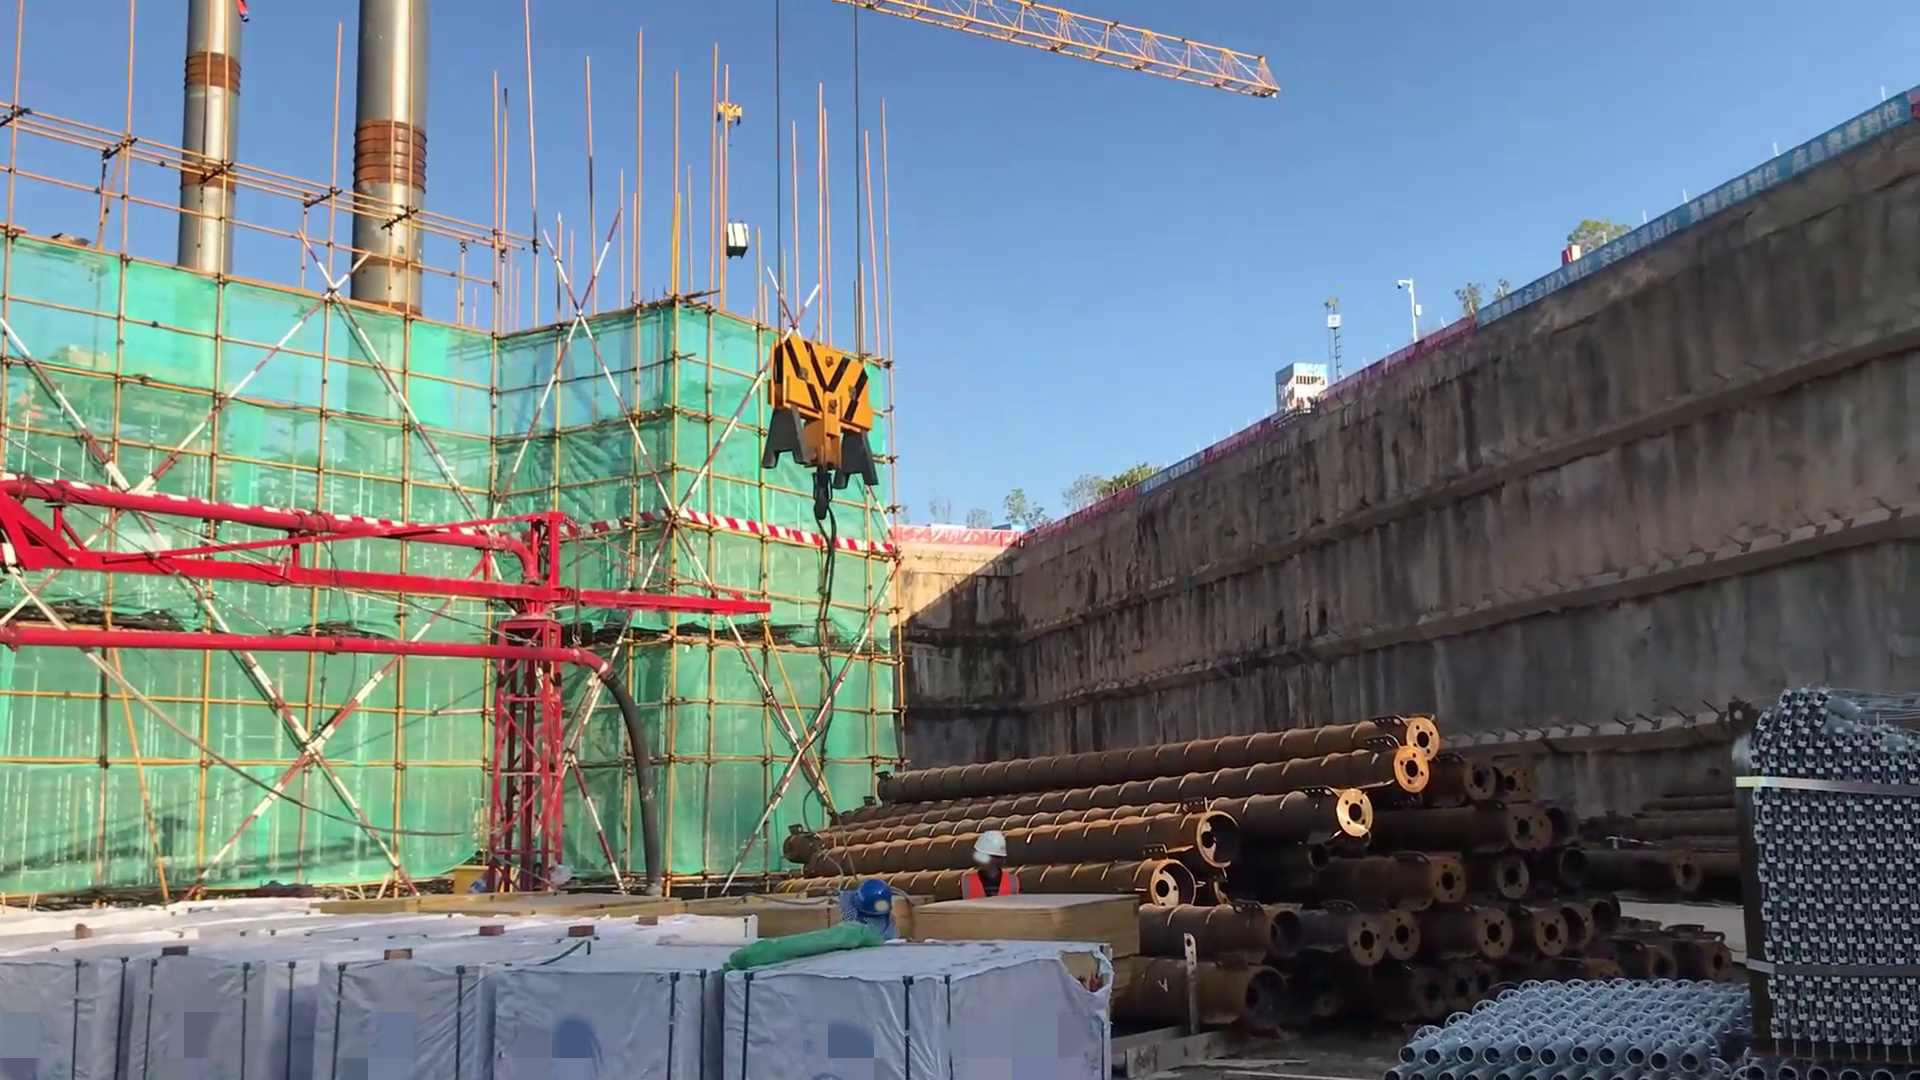board: (910, 892, 1142, 956)
ebox: (454, 864, 517, 896)
helmet: (850, 874, 901, 929), (969, 831, 1011, 870)
hook: (745, 328, 898, 514), (697, 91, 763, 135)
person: (954, 827, 1019, 903)
scaffold: (1713, 660, 1918, 1080), (1394, 967, 1767, 1080)
slogan: (1470, 71, 1920, 341), (1136, 446, 1205, 505)
vest: (956, 865, 1017, 914)
